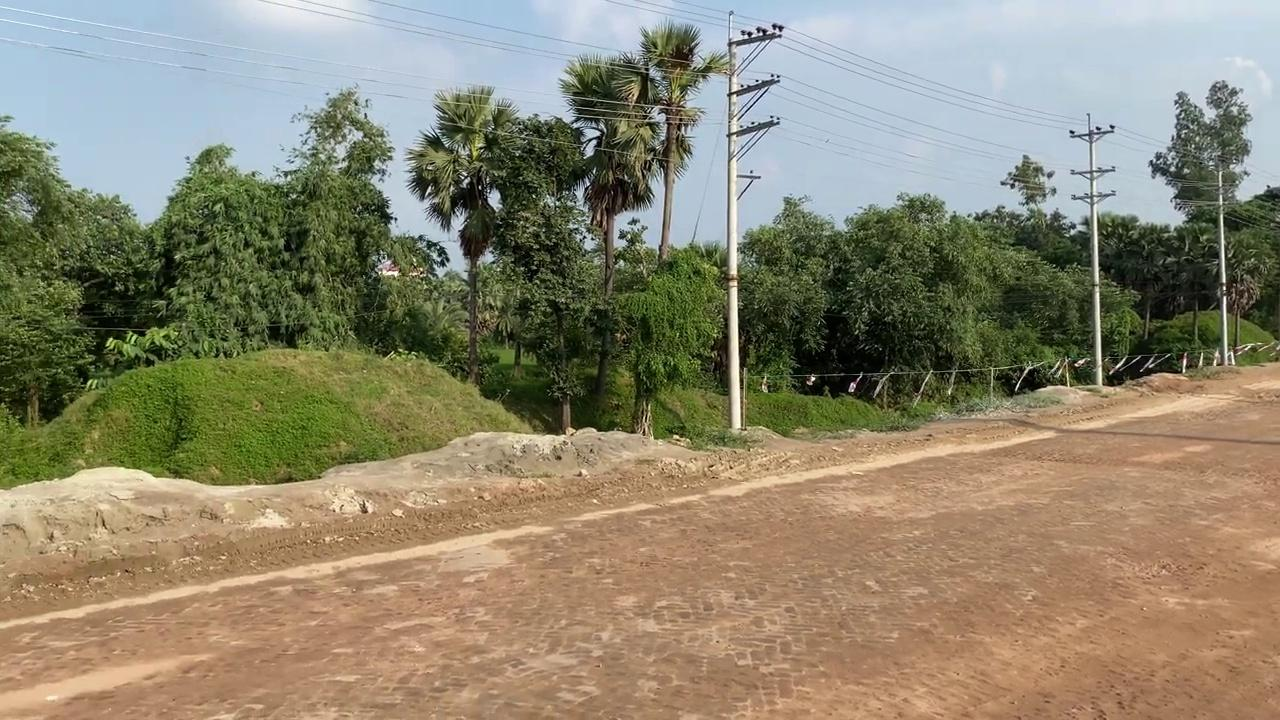Muddy road: (2, 361, 1278, 718)
Pole: (723, 11, 783, 433), (725, 11, 742, 433)
Traffic-sign: (557, 51, 663, 411), (404, 83, 523, 388), (607, 17, 732, 264), (1147, 78, 1254, 364)
